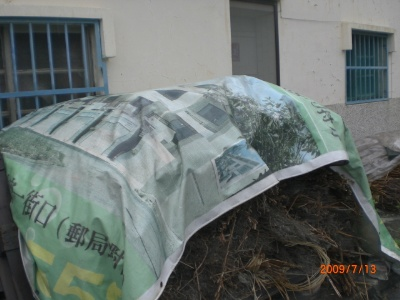plastic_bag: (1, 73, 372, 300)
